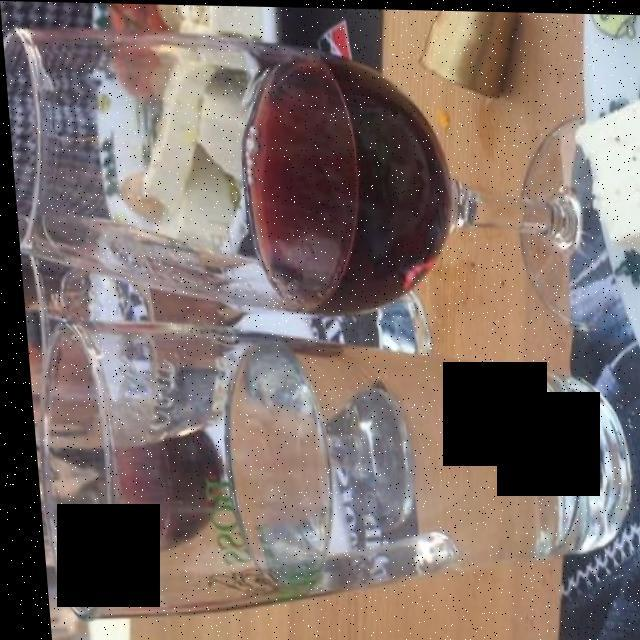water: (231, 352, 600, 620)
wine: (241, 41, 461, 310)
